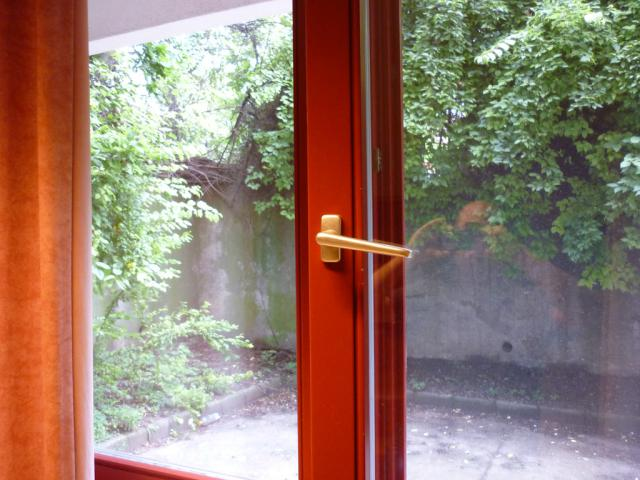Door-handle: (316, 209, 417, 270)
